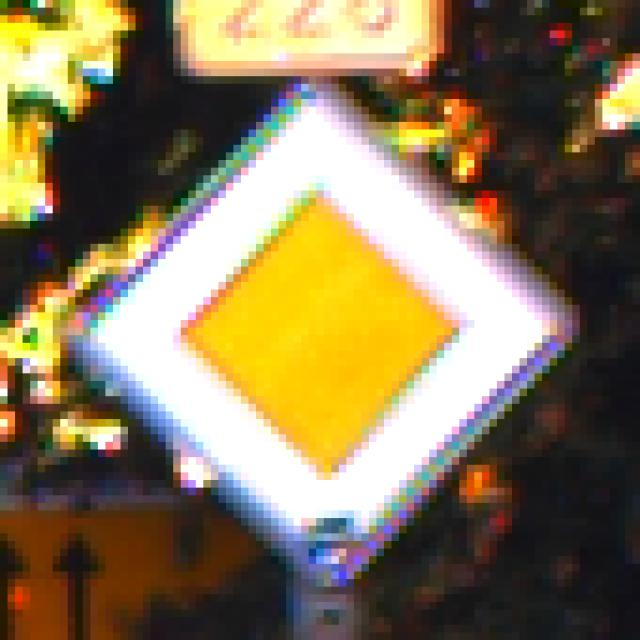Main Road: (54, 54, 581, 588)
